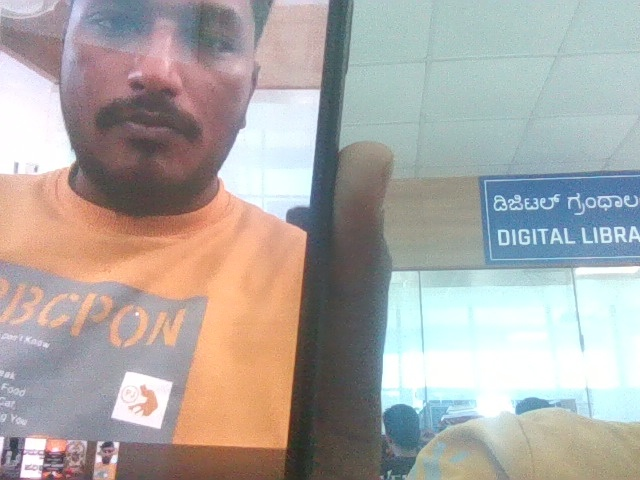fake: (37, 0, 286, 353)
